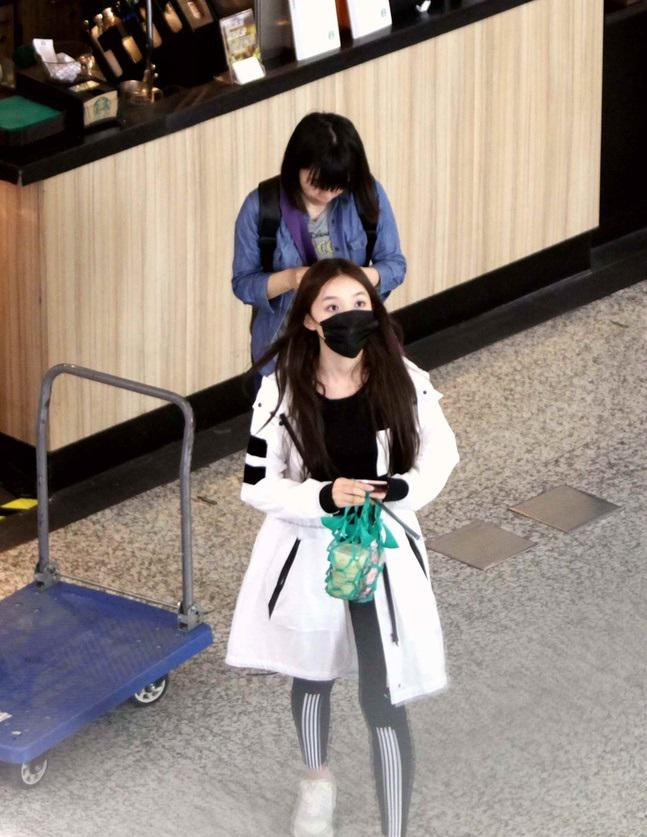OK: (323, 286, 375, 354)
